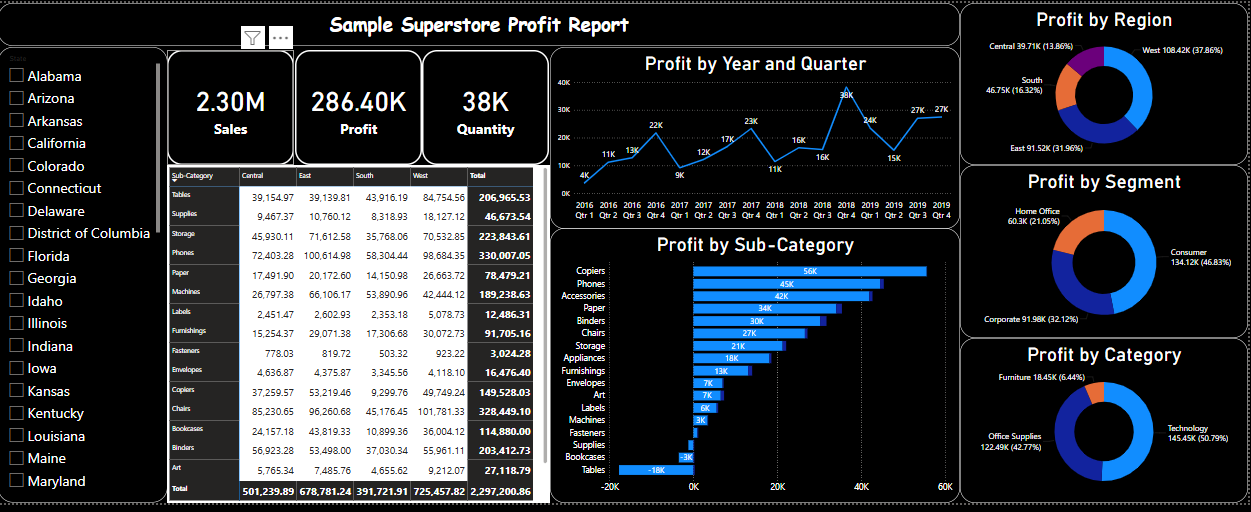

The dashboard page shown, as its layout file describes it:
{"tool":"powerbi","page":{"name":"Report","canvas":[2500,1000],"ordinal":0},"visuals":[{"type":"textbox","box":[0,0,1924,86],"z":0},{"type":"donutChart","title":"Profit by Category","fields":{"Category":["Orders.Category"],"Y":["Sum(Orders.Profit)"]},"box":[1924,670,576,330],"z":1000},{"type":"donutChart","title":"Profit by Segment","fields":{"Y":["Sum(Orders.Profit)"],"Category":["Orders.Segment"]},"box":[1924,324,576,346],"z":2000},{"type":"donutChart","title":"Profit by Region","fields":{"Y":["Sum(Orders.Profit)"],"Category":["Orders.Region"]},"box":[1924,0,576,324],"z":3000},{"type":"barChart","title":"Profit by Sub-Category","fields":{"Y":["Sum(Orders.Profit)","CountNonNull(Orders.Sub-Category)"],"Category":["Orders.Sub-Category"]},"box":[1104,450,820,550],"z":4000},{"type":"lineChart","title":"Profit by Year and Quarter","fields":{"Y":["Sum(Orders.Profit)"],"Category":["Orders.Order Date.Variation.Date Hierarchy.Year","Orders.Order Date.Variation.Date Hierarchy.Quarter"]},"box":[1104,88,820,364],"z":5000},{"type":"slicer","fields":{"Values":["Orders.State"]},"box":[0,88.1,338.6,911.4],"z":6000},{"type":"pivotTable","fields":{"Rows":["Orders.Sub-Category"],"Columns":["Orders.Region"],"Values":["Sum(Orders.Sales)"]},"box":[338,324,766,676],"z":7000},{"type":"card","fields":{"Values":["Sum(Orders.Sales)"]},"box":[338,94,254,230],"z":8000},{"type":"card","fields":{"Values":["Sum(Orders.Profit)"]},"box":[594,94,254,230],"z":9000},{"type":"card","fields":{"Values":["Sum(Orders.Quantity)"]},"box":[848,94,254,230],"z":10000}]}

Visuals, with their boxes in screenshot pixels (x1, y1, x2, y2), scaled from the page's 2500x1000 canvas onto the 1251x512 screenshot:
textbox: <region>0, 0, 963, 44</region>
"Profit by Category" donutChart: <region>963, 343, 1250, 511</region>
"Profit by Segment" donutChart: <region>963, 166, 1250, 343</region>
"Profit by Region" donutChart: <region>963, 0, 1250, 166</region>
"Profit by Sub-Category" barChart: <region>552, 230, 963, 511</region>
"Profit by Year and Quarter" lineChart: <region>552, 45, 963, 231</region>
slicer - Orders.State: <region>0, 45, 169, 511</region>
pivotTable - Orders.Sub-Category x Orders.Region: <region>169, 166, 552, 511</region>
card - Sum(Orders.Sales): <region>169, 48, 296, 166</region>
card - Sum(Orders.Profit): <region>297, 48, 424, 166</region>
card - Sum(Orders.Quantity): <region>424, 48, 551, 166</region>
